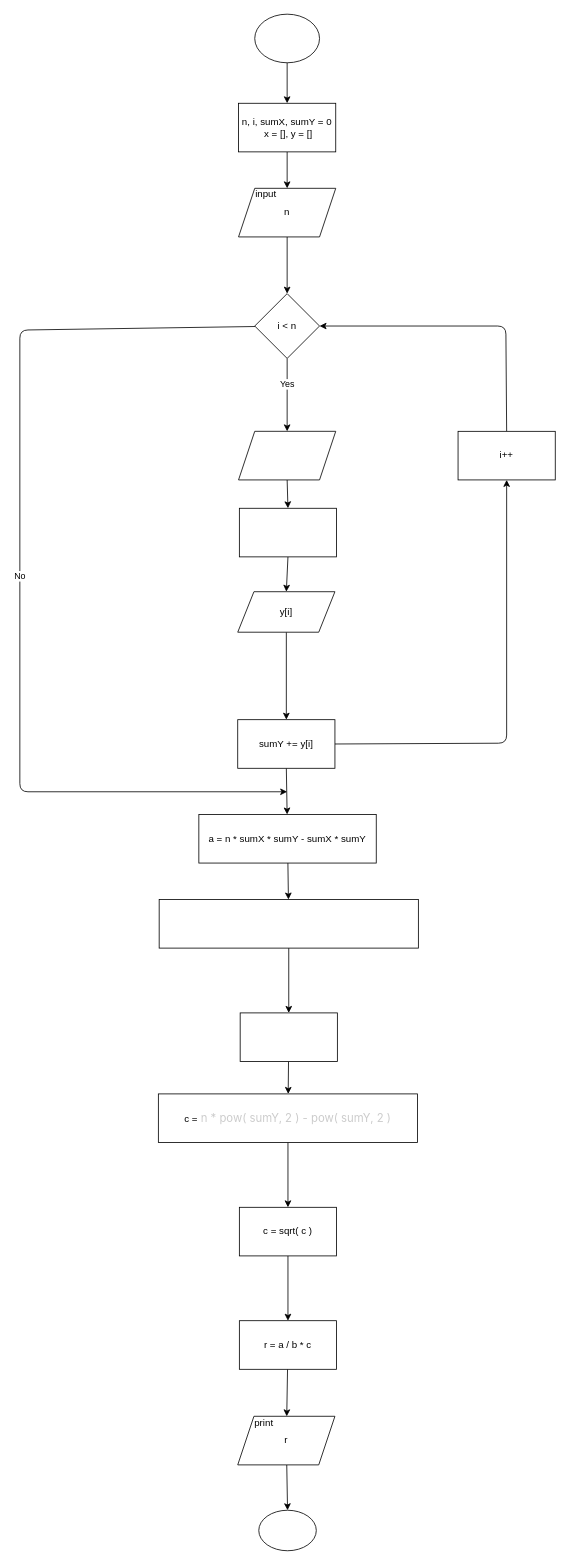
This 569x1565 diagram has some shape labels left out. Here are the shapes that lost their labels. From the top down, the box of each, then its label:
(254, 13, 320, 63): Start
(238, 431, 336, 480): x[i]
(239, 507, 337, 557): sumX += x[i]
(158, 899, 418, 948): b = n * pow( sumX, 2 ) - pow( sumX, 2 )
(239, 1012, 337, 1062): b = sqrt (b)
(258, 1509, 316, 1551): End
